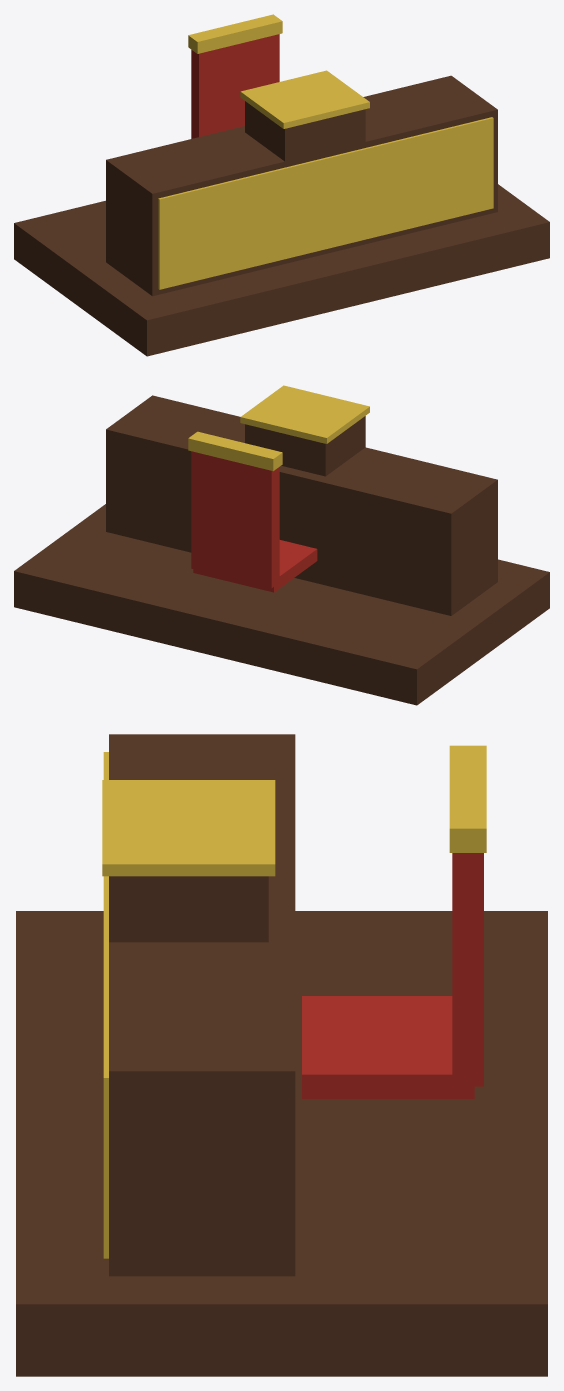
The model's file is interior_cityhall_dais.glb.
3 views of the same model, one above another, from view 1: azimuth 30°, elevation 25°; view 2: azimuth 150°, elevation 25°; view 3: azimuth 270°, elevation 25° (orthographic). The views are drawn at different scales.
Visible parts, largest first — view 1: interior_cityhall_dais; view 2: interior_cityhall_dais; view 3: interior_cityhall_dais.
Part boxes in pixels (x1=…): interior_cityhall_dais: x1=14, y1=14, x2=549, y2=356; interior_cityhall_dais: x1=14, y1=385, x2=549, y2=705; interior_cityhall_dais: x1=16, y1=734, x2=547, y2=1376.
Bounding box in the file's own units: 3.5 × 1.63 × 2.
Materials: 1 (1 with a texture image).
